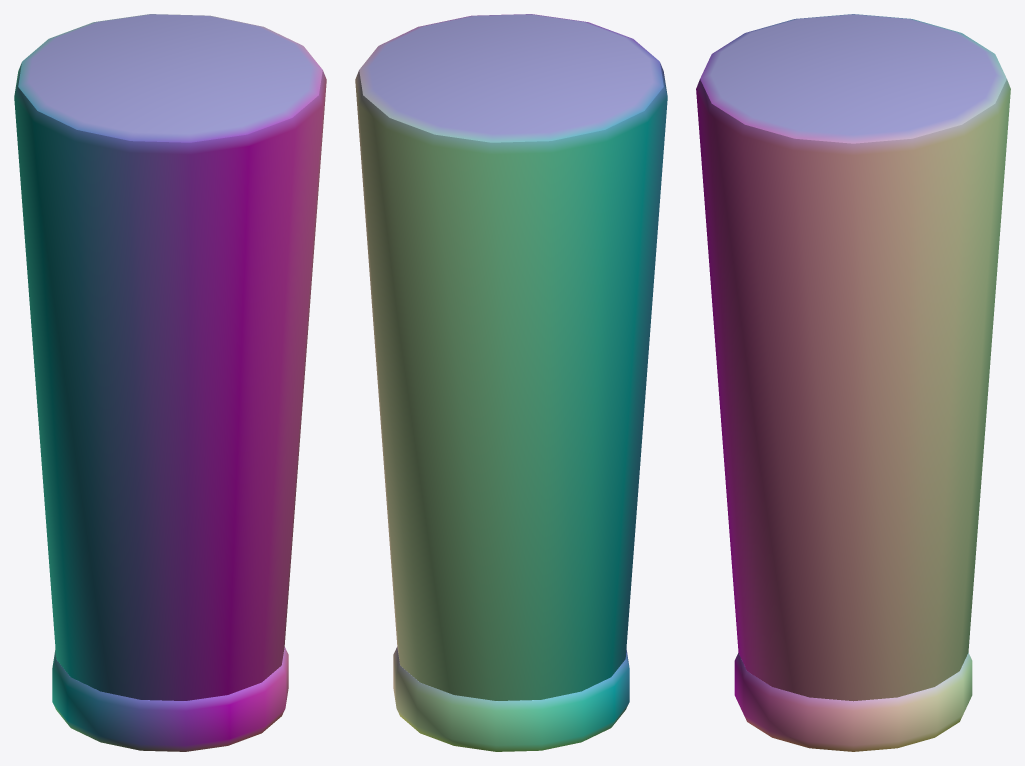
Rendered from env_sofa_leg.glb.
3 renders of one model, left to right at view 1: azimuth 30°, elevation 25°; view 2: azimuth 150°, elevation 25°; view 3: azimuth 270°, elevation 25°, orthographic.
Visible parts, largest first — view 1: env_sofa_leg_mesh; view 2: env_sofa_leg_mesh; view 3: env_sofa_leg_mesh.
Part boxes in pixels (bbox=[...]): env_sofa_leg_mesh: bbox=[14, 14, 326, 751]; env_sofa_leg_mesh: bbox=[355, 14, 667, 751]; env_sofa_leg_mesh: bbox=[696, 14, 1010, 751].
Bounding box in the file's own units: 0.1986 × 0.44 × 0.1986.
